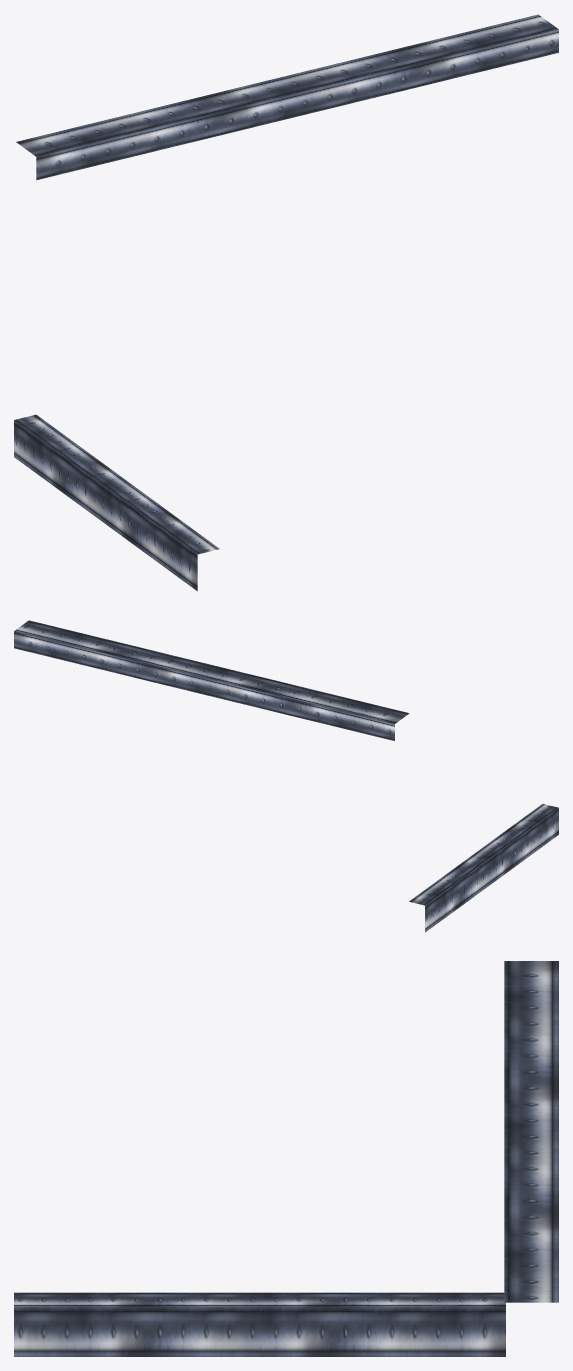
3 renders of one model, top to bottom at view 1: azimuth 30°, elevation 25°; view 2: azimuth 150°, elevation 25°; view 3: azimuth 270°, elevation 25°, orthographic. The views are drawn at different scales.
Parts seen in each view (by area): view 1: Object16; view 2: Object16; view 3: Object16.
Boxes of the visible parts, <box> form: Object16: <box>14,14,558,591</box>; Object16: <box>14,620,558,932</box>; Object16: <box>14,961,558,1356</box>.
Size of the model in its own units: 1724 by 894 by 1116.
1 material, 1 textured.
